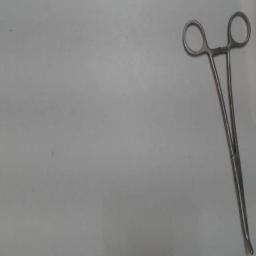Lahey Forceps: (178, 6, 256, 254)
